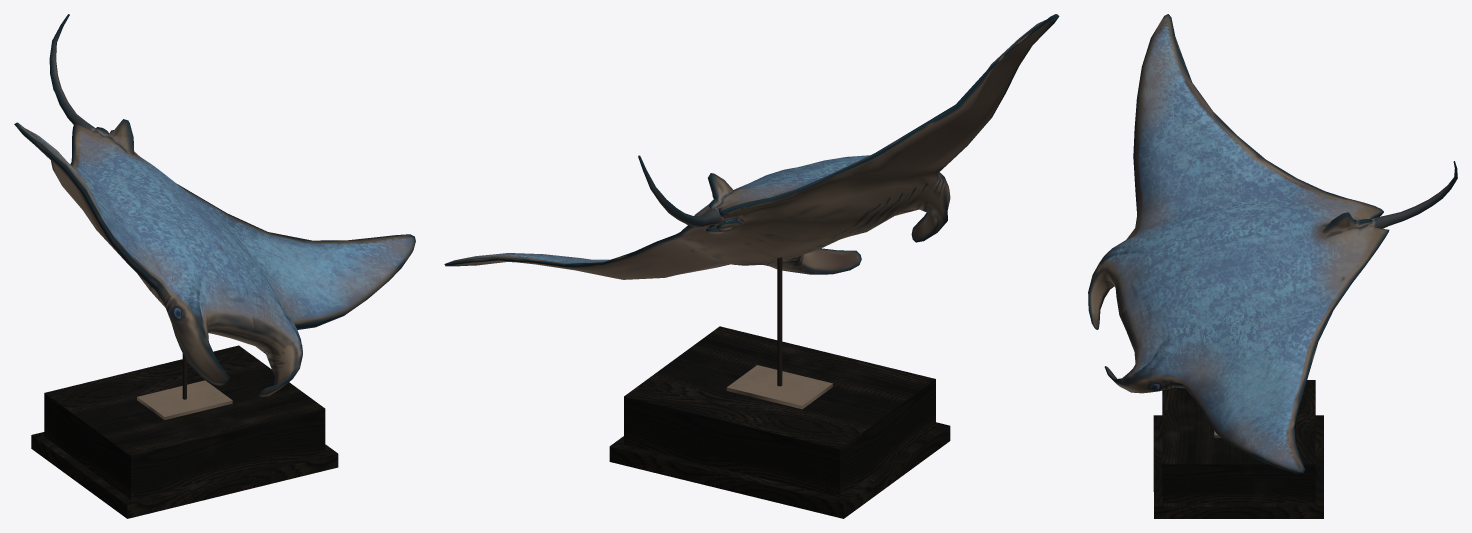
File: bronze-ray-2k.glb
3 views of the same model, side by side, from view 1: azimuth 30°, elevation 25°; view 2: azimuth 150°, elevation 25°; view 3: azimuth 270°, elevation 25° (orthographic). The views are drawn at different scales.
Parts seen in each view (by area): view 1: bronze_ray_statue; view 2: bronze_ray_statue; view 3: bronze_ray_statue.
Part boxes in pixels (x1,y1,x2,y2): bronze_ray_statue: (14,14,415,518); bronze_ray_statue: (444,14,1059,518); bronze_ray_statue: (1088,14,1457,518).
Size of the model in its own units: 0.7075 by 0.5896 by 0.5355.
1 material, 1 textured.
